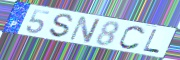5: (26, 9, 52, 34)
8: (95, 20, 122, 47)
C: (119, 25, 147, 51)
L: (142, 28, 161, 55)
N: (67, 15, 103, 44)
S: (49, 13, 75, 39)
